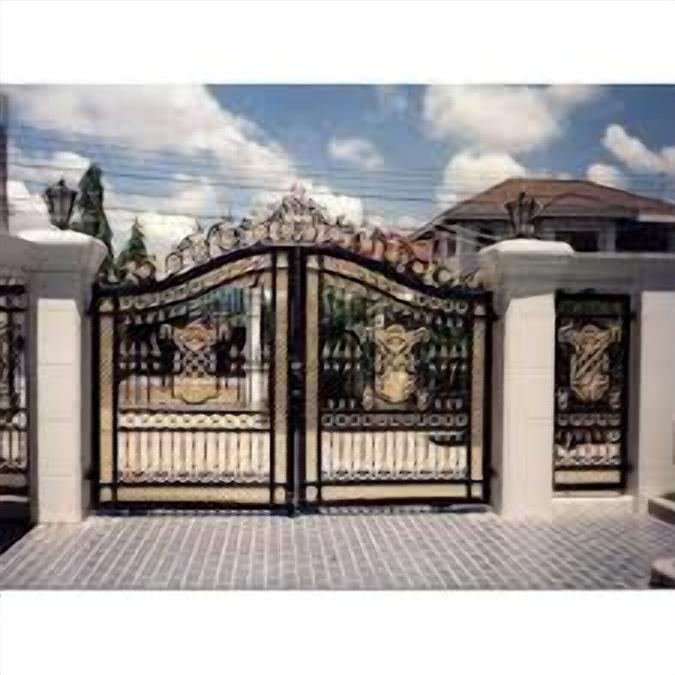Building: (387, 178, 675, 359)
Gate: (85, 190, 499, 519), (553, 286, 639, 490), (0, 275, 35, 501)
